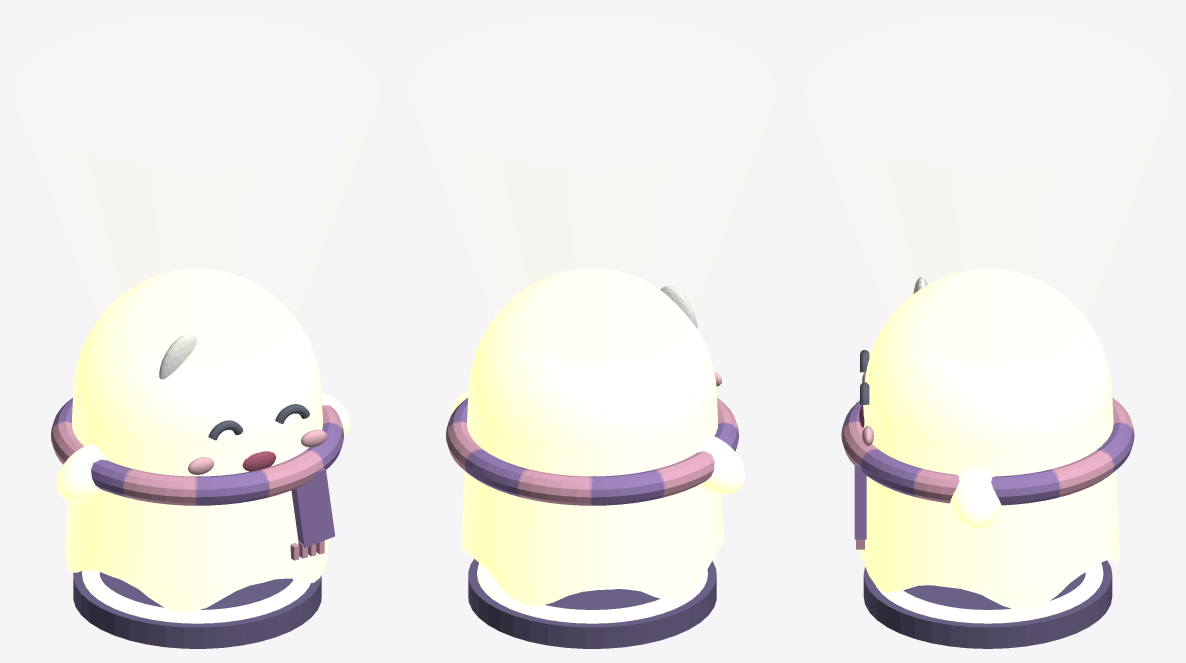
Rendered from ghost-holo-4.glb.
The picture shows the model from 3 angles, left to right: view 1: azimuth 30°, elevation 25°; view 2: azimuth 150°, elevation 25°; view 3: azimuth 270°, elevation 25°; orthographic projection.
Parts seen in each view (by area): view 1: dancer, holo_base, light_holo_ring; view 2: dancer, holo_base, light_holo_ring; view 3: dancer, holo_base, light_holo_ring.
Part boxes in pixels (<box>): dancer: <box>51,268,350,612</box>; holo_base: <box>73,571,321,648</box>; light_holo_ring: <box>82,570,310,623</box>; dancer: <box>446,268,745,606</box>; holo_base: <box>468,559,716,648</box>; light_holo_ring: <box>477,563,707,623</box>; dancer: <box>841,268,1134,610</box>; holo_base: <box>863,560,1112,648</box>; light_holo_ring: <box>876,563,1103,623</box>.
Size of the model in its own units: 1.24 by 1.88 by 1.24.
